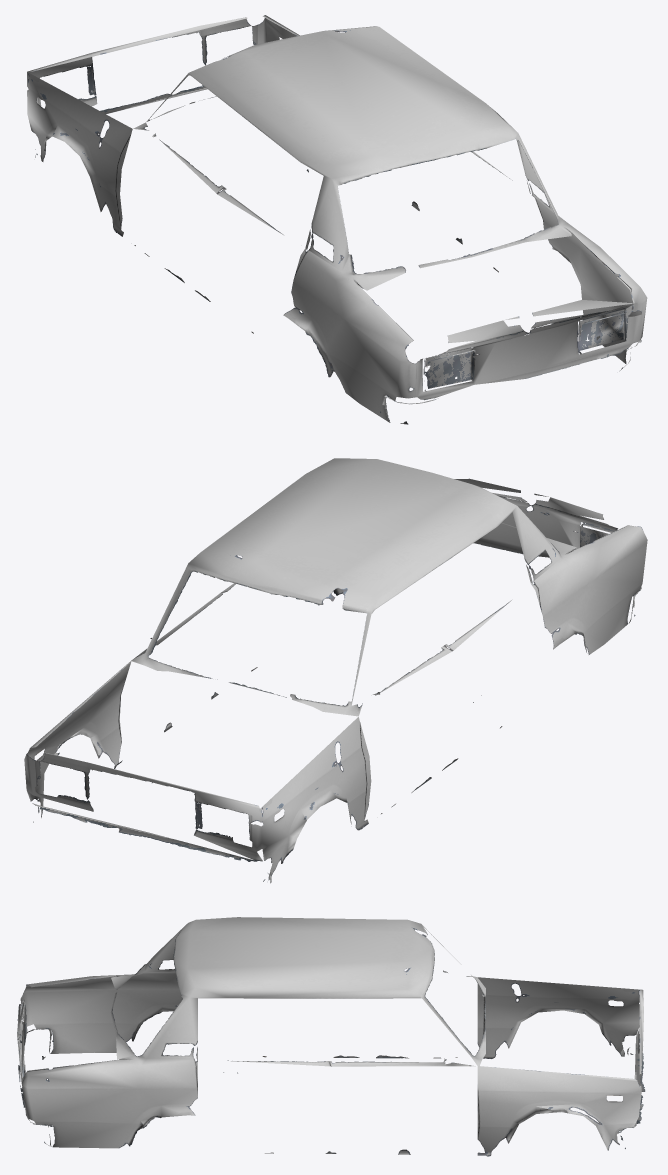
The model's file is SM_AbandonedCar_Body.fbx.
The picture shows the model from 3 angles, top to bottom: view 1: azimuth 30°, elevation 25°; view 2: azimuth 150°, elevation 25°; view 3: azimuth 270°, elevation 25°; orthographic projection. The views are drawn at different scales.
Parts seen in each view (by area): view 1: SM_AbandonedCar_Body; view 2: SM_AbandonedCar_Body; view 3: SM_AbandonedCar_Body.
Part boxes in pixels (box(x1,y1,x2,y2)): SM_AbandonedCar_Body: box(27, 15, 647, 424); SM_AbandonedCar_Body: box(24, 458, 647, 883); SM_AbandonedCar_Body: box(17, 917, 645, 1156).
Size of the model in its own units: 162 by 116 by 412.
Materials: 1 (1 with a texture image).
